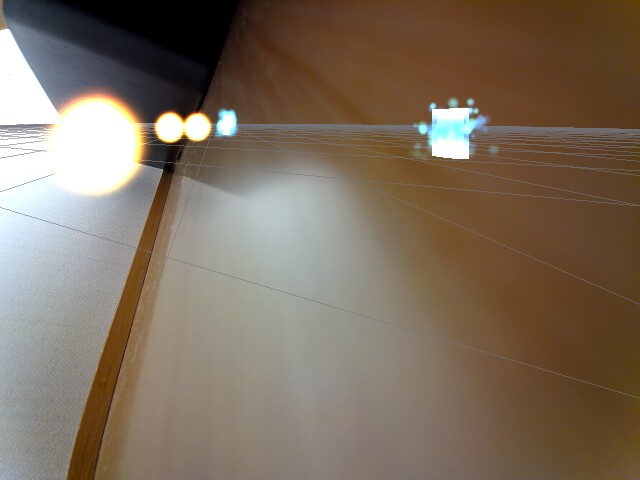firebig: (36, 93, 146, 205)
